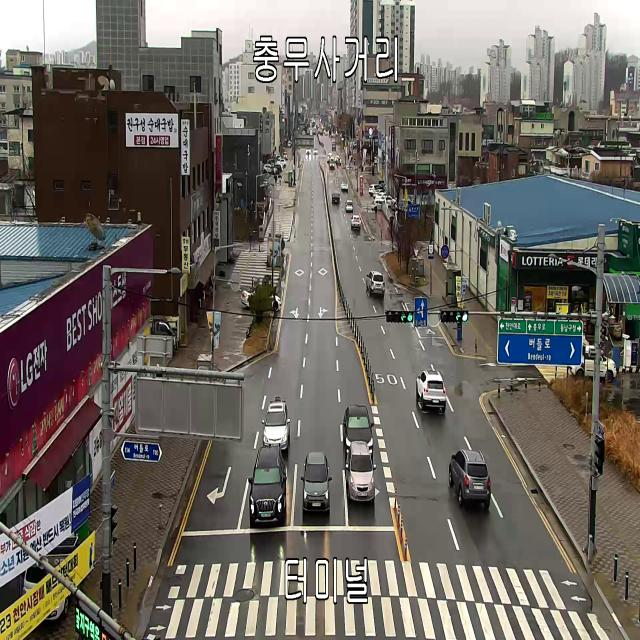Car: (248, 445, 286, 522), (448, 449, 491, 508), (346, 441, 377, 502), (300, 452, 332, 511), (568, 345, 616, 383), (343, 405, 374, 459), (262, 400, 290, 450), (416, 369, 446, 413), (241, 286, 281, 312), (366, 271, 385, 298), (368, 184, 382, 196), (398, 199, 412, 211), (262, 164, 278, 174), (385, 195, 396, 207), (351, 215, 361, 228), (376, 192, 388, 202), (373, 188, 385, 197), (372, 201, 382, 211), (331, 193, 340, 204), (277, 159, 286, 169), (346, 200, 354, 211), (342, 180, 348, 190), (283, 152, 288, 161), (330, 158, 334, 168), (306, 148, 312, 154), (336, 158, 342, 164), (335, 155, 340, 162), (332, 142, 336, 149), (313, 149, 318, 154), (374, 156, 377, 164), (328, 155, 332, 161)
Truck: (24, 536, 80, 620), (148, 317, 174, 352)
